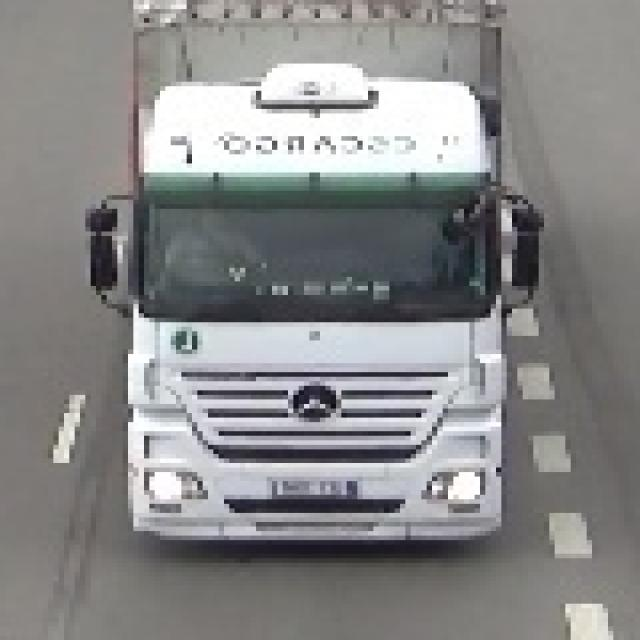TRUCK: (94, 1, 532, 567)
